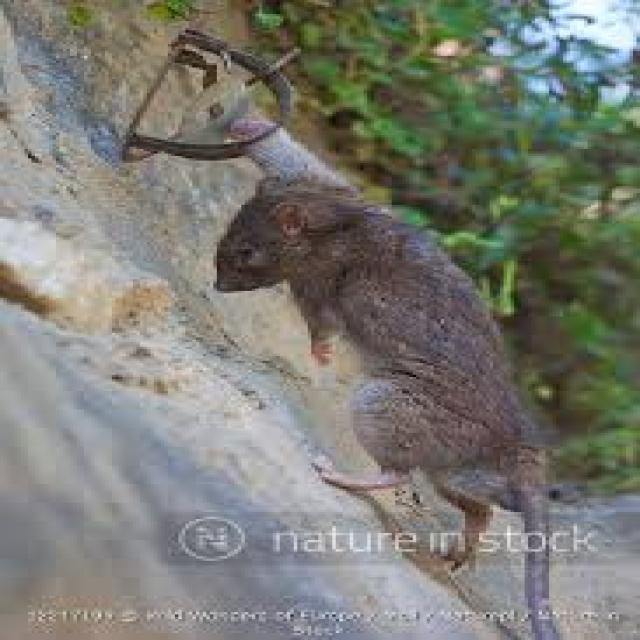Rat: (184, 106, 604, 604)
